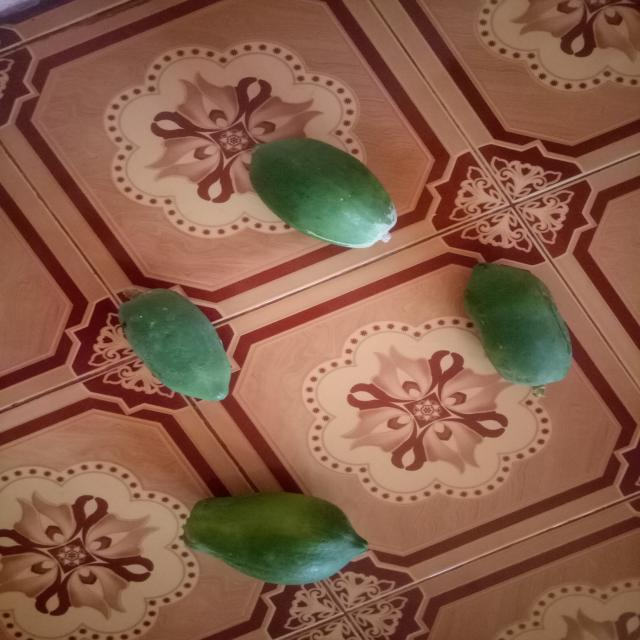Pepaya unrippen: (236, 138, 408, 257), (181, 488, 378, 590), (456, 260, 577, 398), (106, 294, 240, 401)
